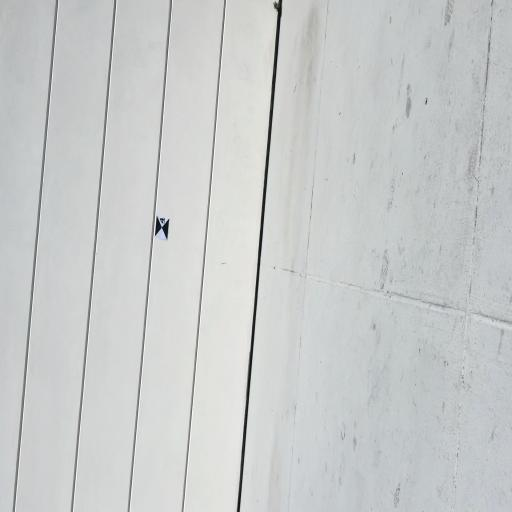target4: (155, 214, 170, 241)
